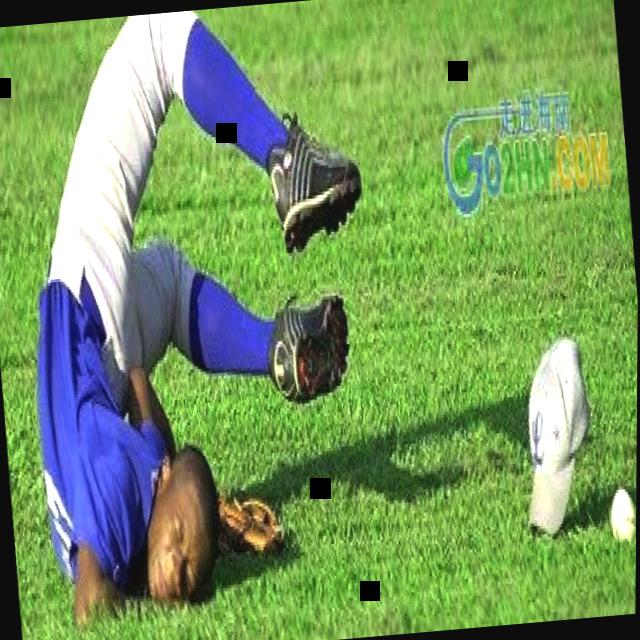Fall-Detected: (0, 0, 389, 628)
